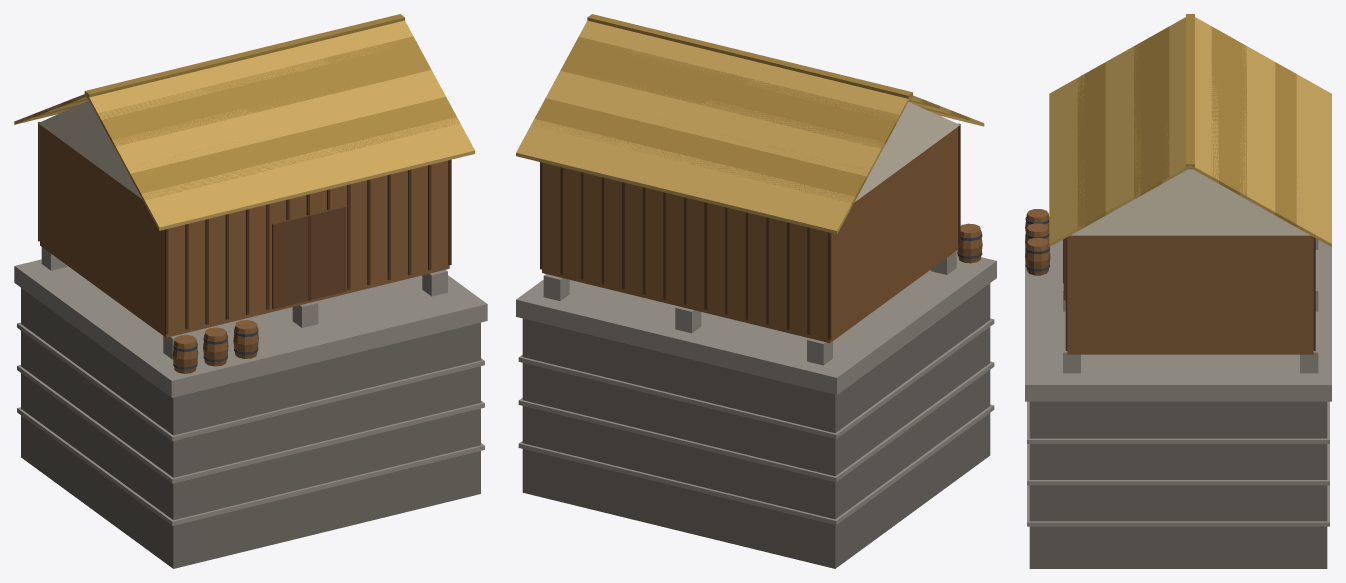
The model's file is granary.glb.
The picture shows the model from 3 angles, left to right: view 1: azimuth 30°, elevation 25°; view 2: azimuth 150°, elevation 25°; view 3: azimuth 270°, elevation 25°; orthographic projection. The views are drawn at different scales.
Visible parts, largest first — view 1: granary; view 2: granary; view 3: granary.
Part boxes in pixels (bbox=[...]): granary: bbox=[14, 14, 487, 568]; granary: bbox=[516, 14, 996, 568]; granary: bbox=[1025, 14, 1331, 568].
Bounding box in the file's own units: 7.8 × 9.84 × 6.73.
